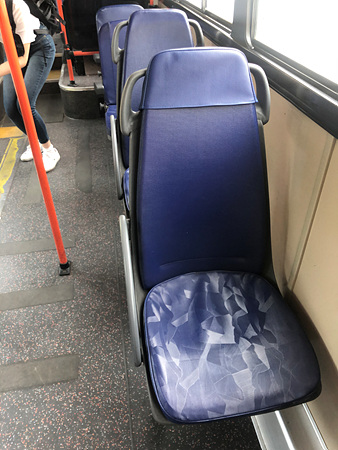seat: (137, 56, 322, 415)
